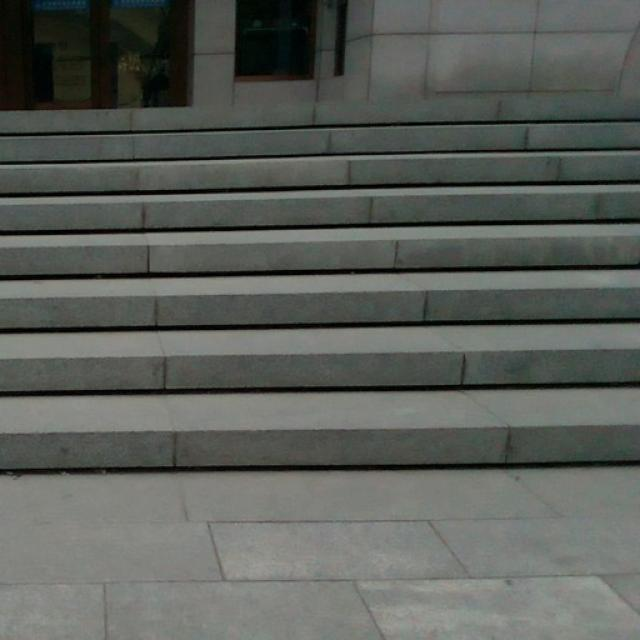Stairs: (0, 118, 639, 470)
